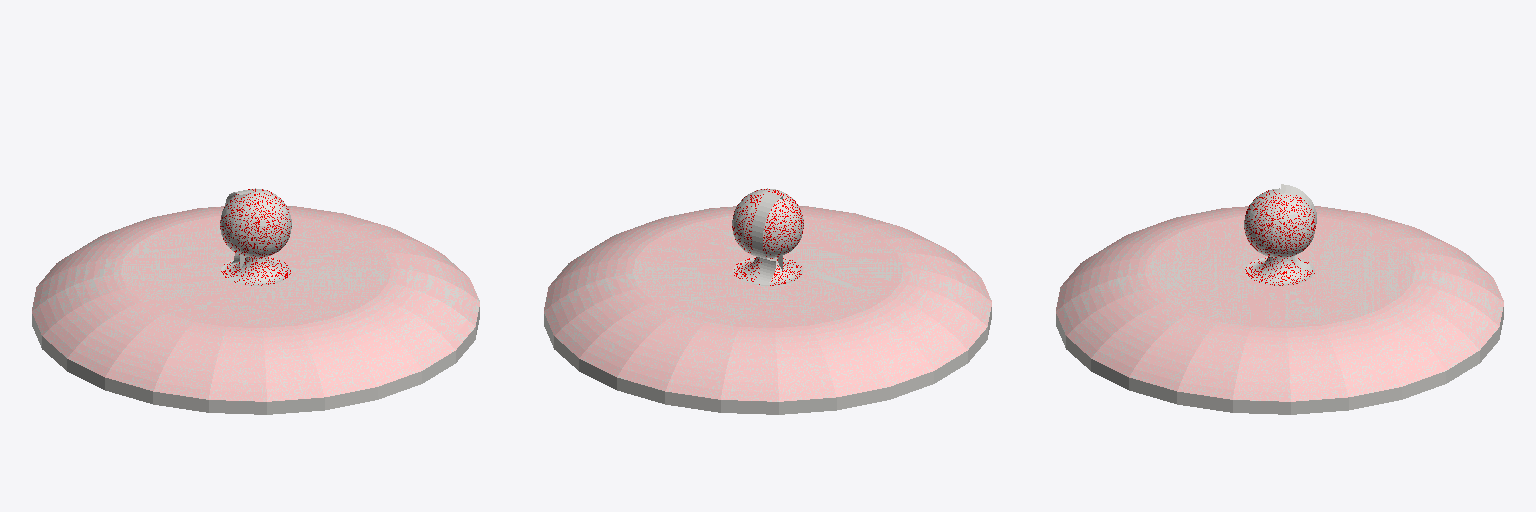
File: original-6.obj
The picture shows the model from 3 angles: view 1: azimuth 30°, elevation 25°; view 2: azimuth 150°, elevation 25°; view 3: azimuth 270°, elevation 25°; orthographic projection.
Parts seen in each view (by area): view 1: mesh29/mesh29-geometry#mesh29-geometry; view 2: mesh29/mesh29-geometry#mesh29-geometry; view 3: mesh29/mesh29-geometry#mesh29-geometry.
Part boxes in pixels (bbox=[...]): mesh29/mesh29-geometry#mesh29-geometry: bbox=[32, 188, 479, 414]; mesh29/mesh29-geometry#mesh29-geometry: bbox=[544, 188, 991, 414]; mesh29/mesh29-geometry#mesh29-geometry: bbox=[1056, 184, 1503, 414].
Size of the model in its own units: 0.5141 by 0.1622 by 0.5141.